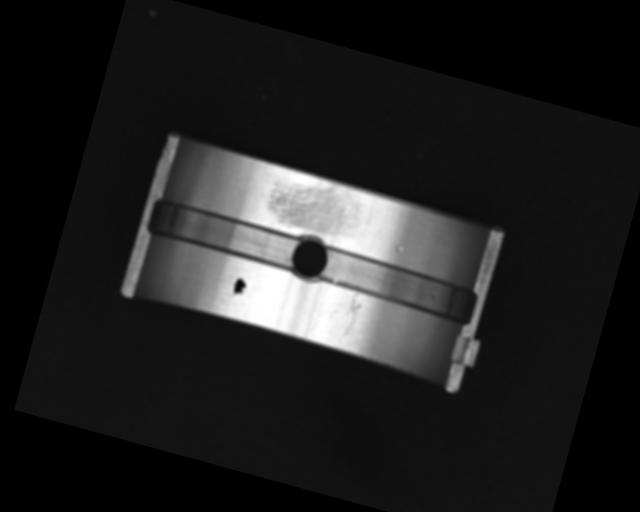blot: (229, 275, 249, 301)
bruise: (392, 243, 405, 255)
gap: (314, 242, 479, 327), (145, 196, 303, 273)
hole: (286, 231, 334, 286)
nick: (339, 290, 365, 340)
scratch: (261, 168, 370, 244)
